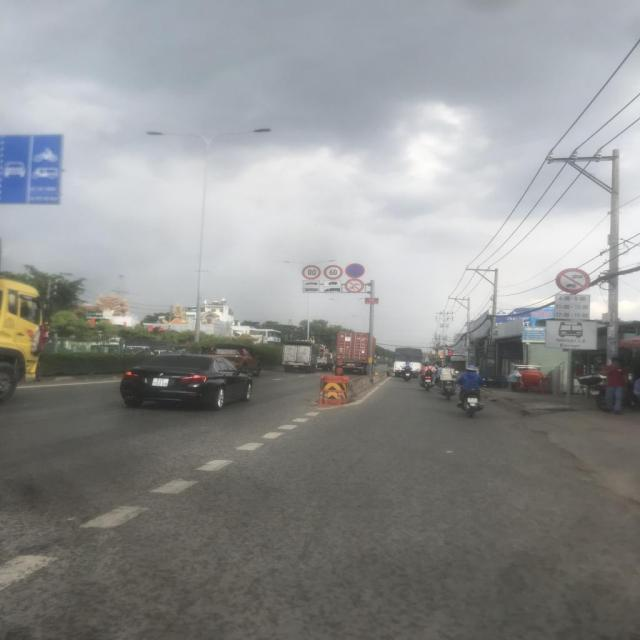cam_dung_xe_va_do_xe: (345, 263, 365, 279)
cam_o_to_tai_va_xe_khach: (555, 268, 590, 293)
cam_xe_2_banh_va_xe_3_banh_co_dong_co: (344, 278, 364, 294)
khac: (545, 320, 597, 350), (554, 294, 590, 320), (324, 286, 342, 293), (302, 280, 320, 286), (302, 286, 320, 292), (324, 281, 341, 287)
lan_duong_cho_tung_xe_theo_vach_ke_duong: (1, 136, 62, 205)
toc_do_toi_da_60: (323, 265, 343, 280)
toc_do_toi_da_80: (302, 265, 321, 279)
